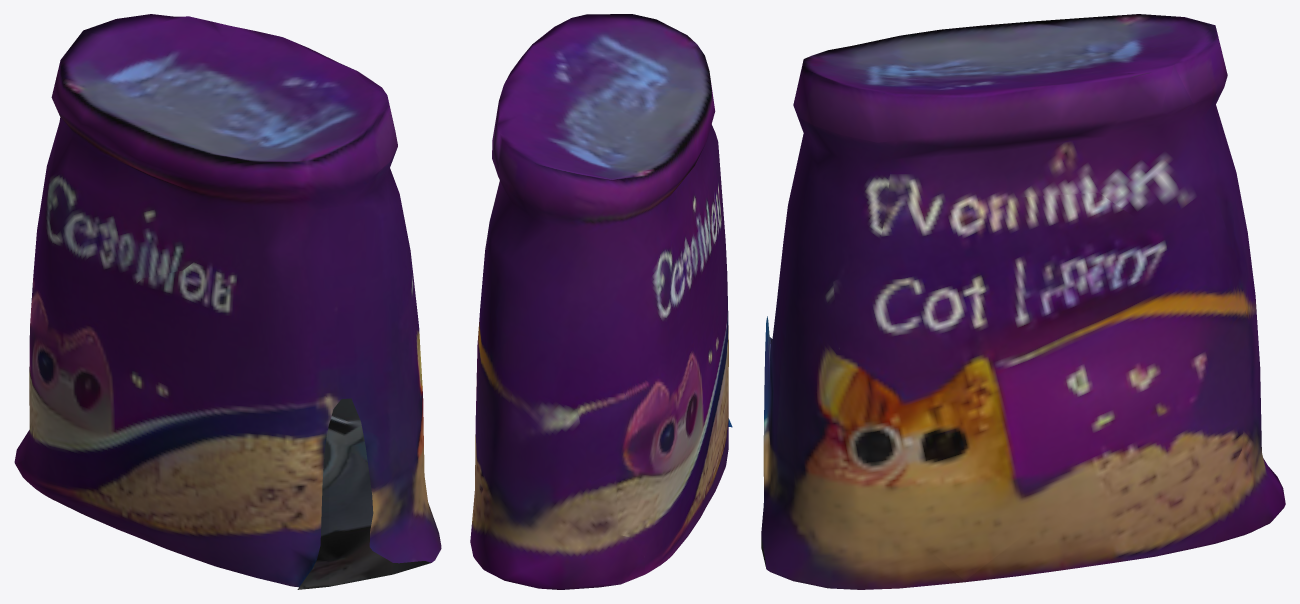
File: Sand1.fbx
3 renders of one model, left to right at view 1: azimuth 30°, elevation 25°; view 2: azimuth 150°, elevation 25°; view 3: azimuth 270°, elevation 25°, orthographic. The views are drawn at different scales.
Visible parts, largest first — view 1: tripo_node_cc436b14; view 2: tripo_node_cc436b14; view 3: tripo_node_cc436b14.
Boxes of the visible parts, x1,y1,x2,y2 form: tripo_node_cc436b14: (14,14,441,589); tripo_node_cc436b14: (470,14,732,589); tripo_node_cc436b14: (761,14,1285,589).
Size of the model in its own units: 11.38 by 18.13 by 17.95.
1 material, 1 textured.
